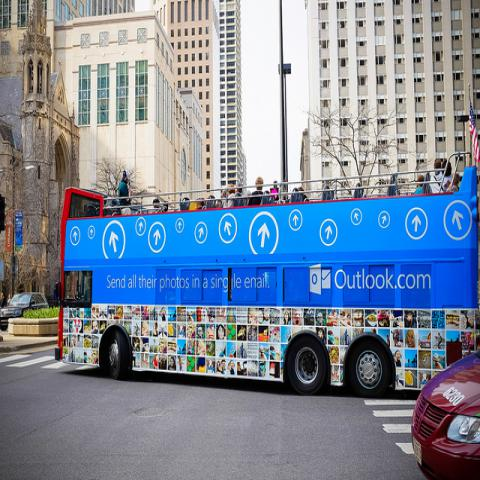bus: (52, 165, 478, 398)
car: (411, 349, 479, 479), (1, 292, 49, 331)
truck: (0, 290, 49, 332)
